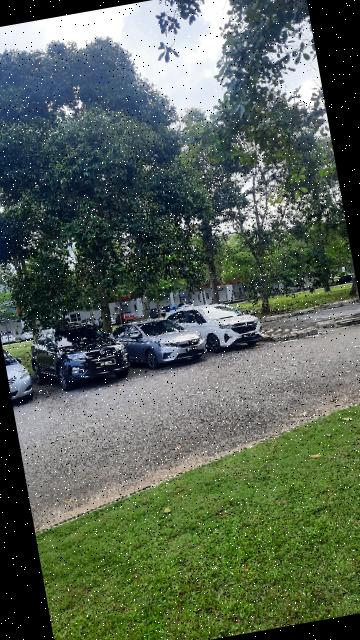License_Plate: (96, 358, 118, 369), (186, 346, 199, 353), (242, 334, 256, 340)
car: (26, 315, 134, 397), (165, 296, 266, 360), (126, 311, 212, 375)
